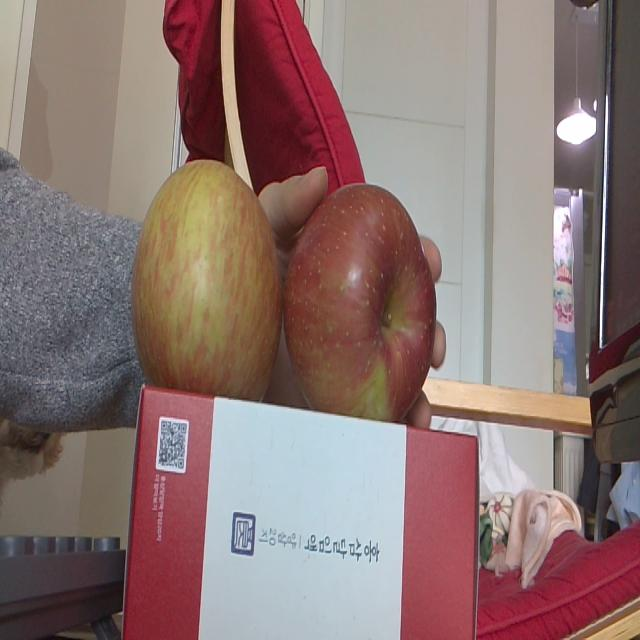apple: (128, 157, 280, 406), (287, 183, 438, 423)
